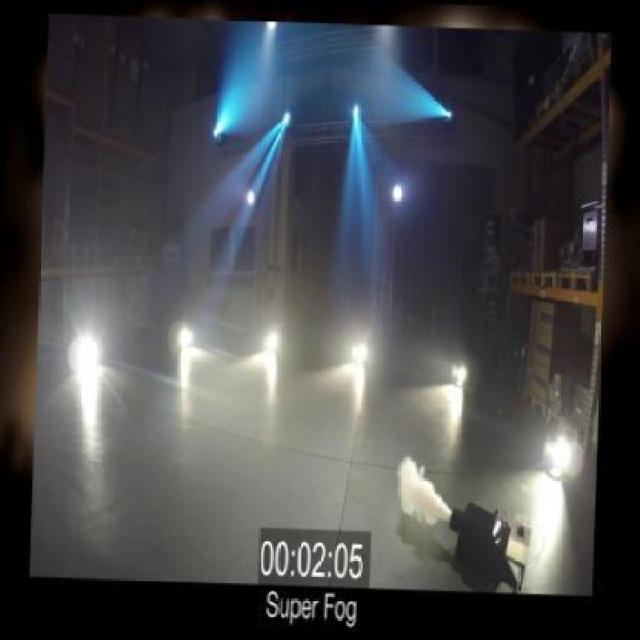fire: (394, 454, 448, 528)
